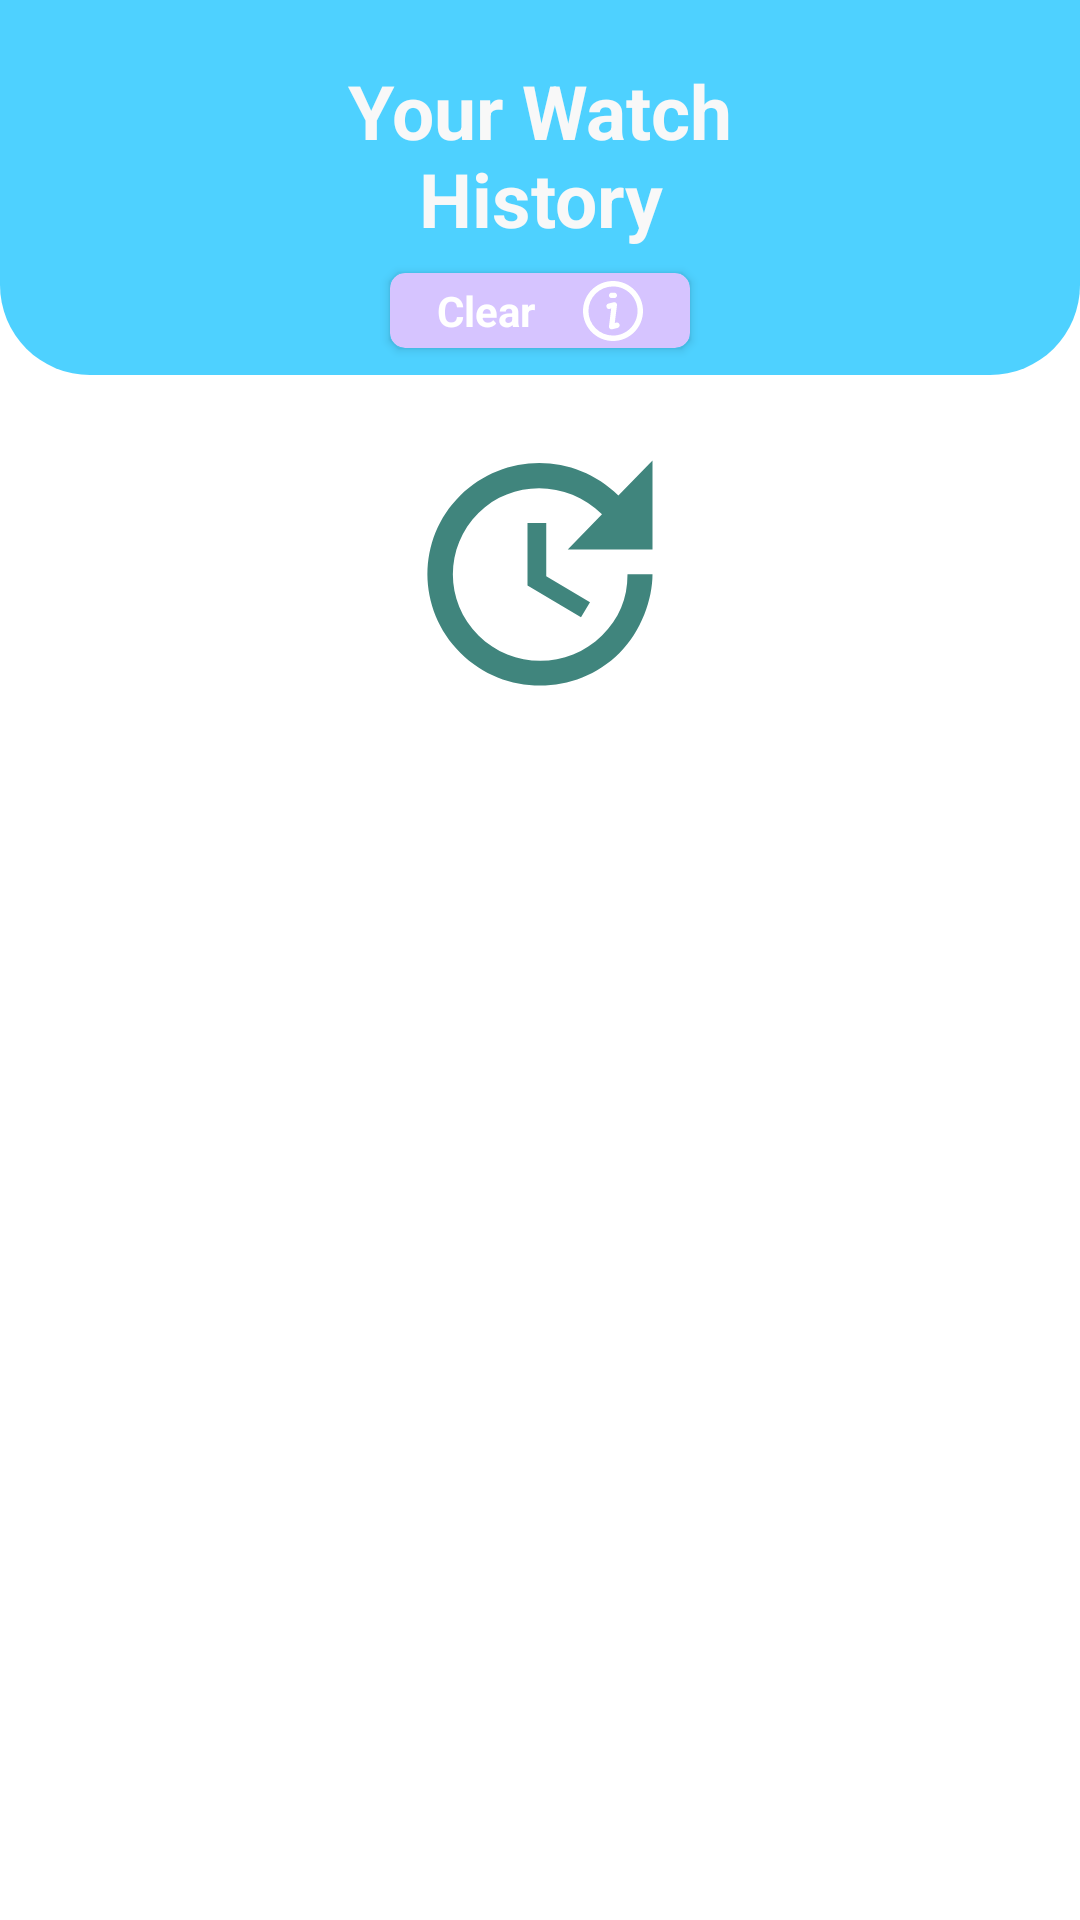

Icon bounding boxes for this 1080px×1920px phone screenshot, format box=[x1, y1, x2, y2]:
check updates: box=[427, 461, 653, 686]
